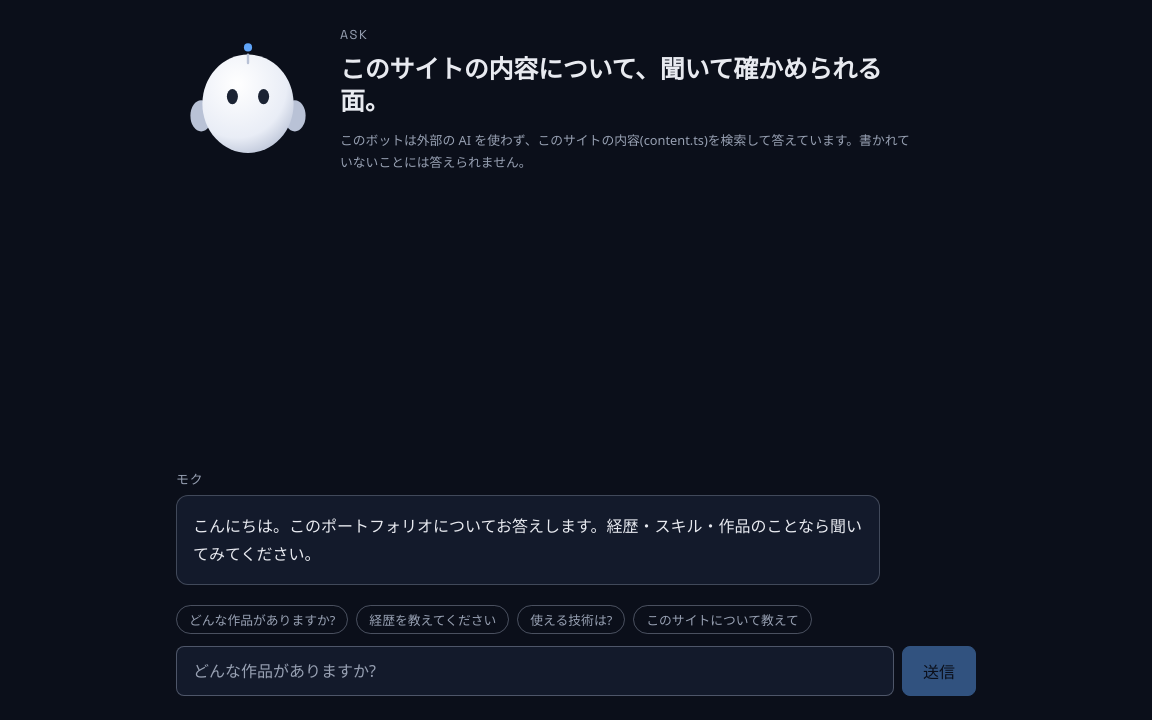
Test: 面 3(ask) › 答えられない質問には、答えられる範囲を示して返す
Type "明日の天気を教えて" into the field named "質問を入力" at [535, 671], box [176,646,894,696]
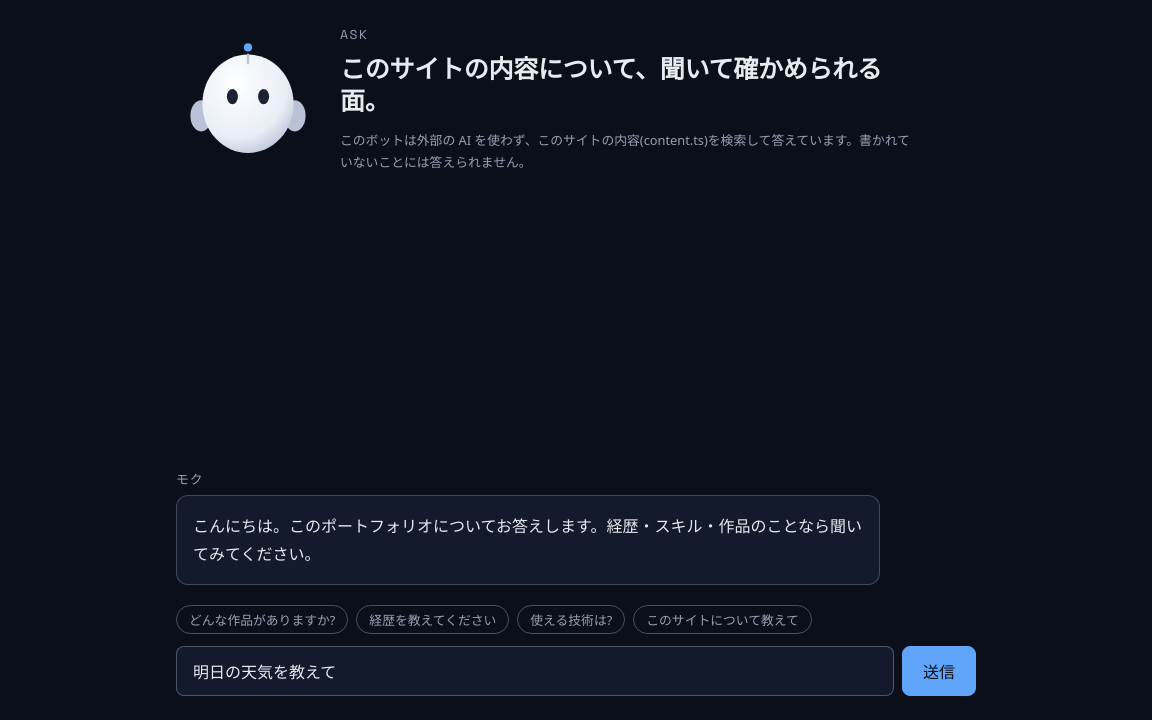
Submit the form, box [176,646,976,696]
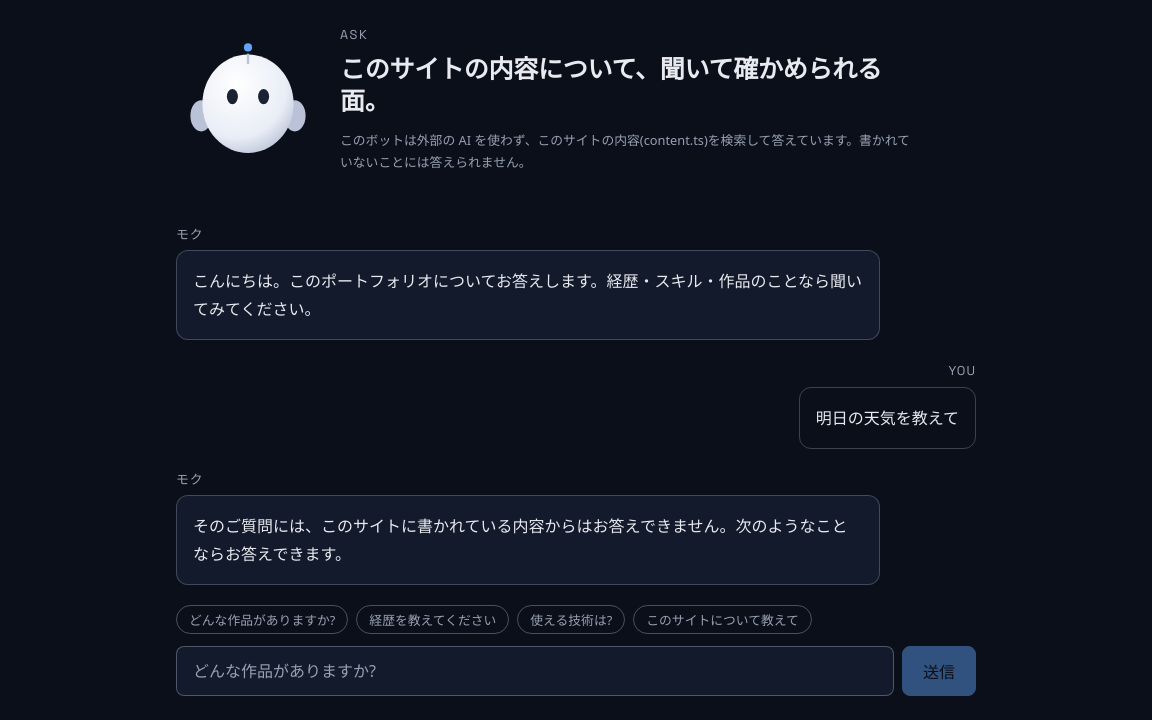
Check: the button "どんな作品がありますか?" is shown, box [176,605,348,634]
Check: the text "そのご質問には、このサイトに書かれている内容からはお答えできません。次のようなことならお答えできます。" is shown, box [193,512,863,568]
